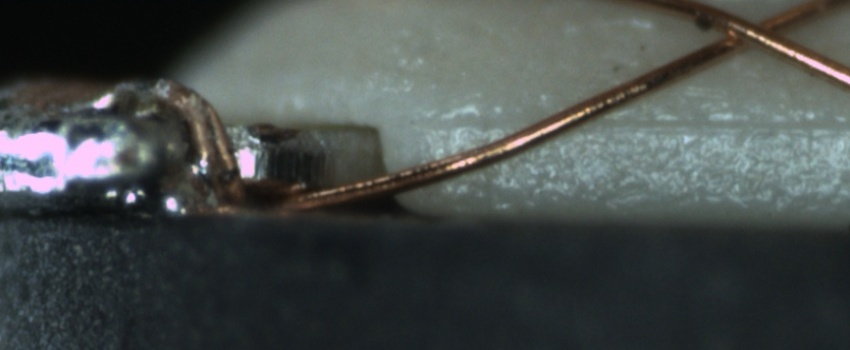CL: (704, 4, 806, 61)
DL: (425, 97, 850, 152)
TE: (149, 71, 253, 211)
